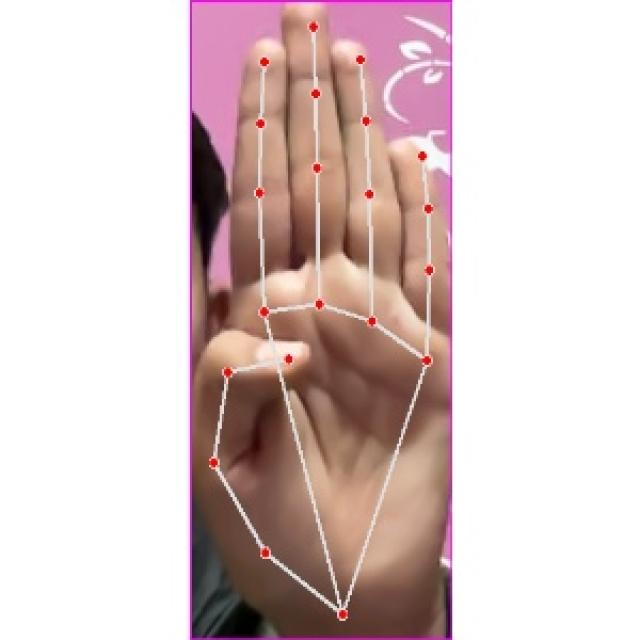B: (189, 2, 452, 640)
